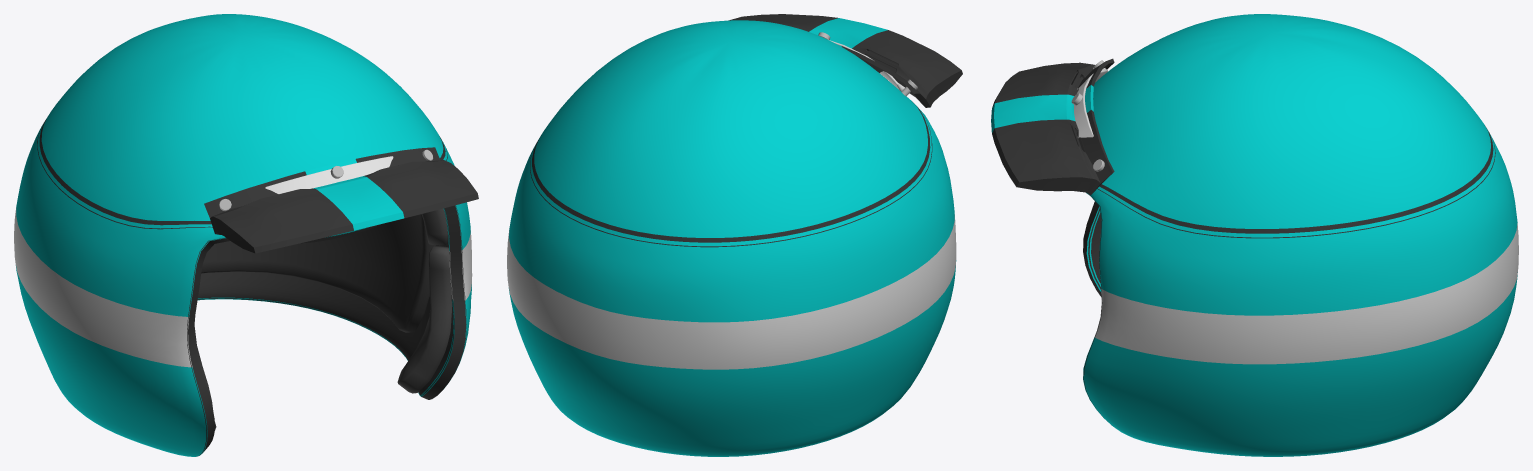
The model's file is helmet.glb.
The picture shows the model from 3 angles, left to right: view 1: azimuth 30°, elevation 25°; view 2: azimuth 150°, elevation 25°; view 3: azimuth 270°, elevation 25°; orthographic projection. The views are drawn at different scales.
Parts seen in each view (by area): view 1: out_helmet.001; view 2: out_helmet.001; view 3: out_helmet.001.
Boxes of the visible parts, x1,y1,x2,y2 form: out_helmet.001: (14, 14, 478, 456); out_helmet.001: (507, 14, 962, 456); out_helmet.001: (991, 14, 1518, 456).
Bounding box in the file's own units: 1.61 × 1.38 × 1.89.
